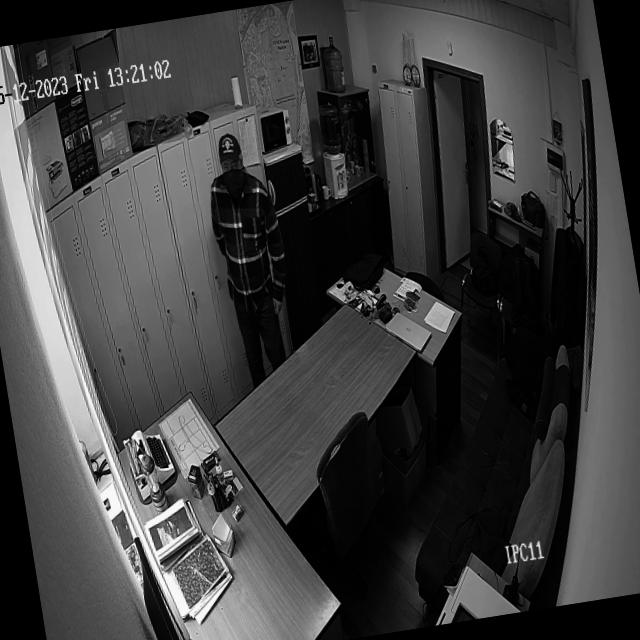person: (199, 128, 306, 391)
